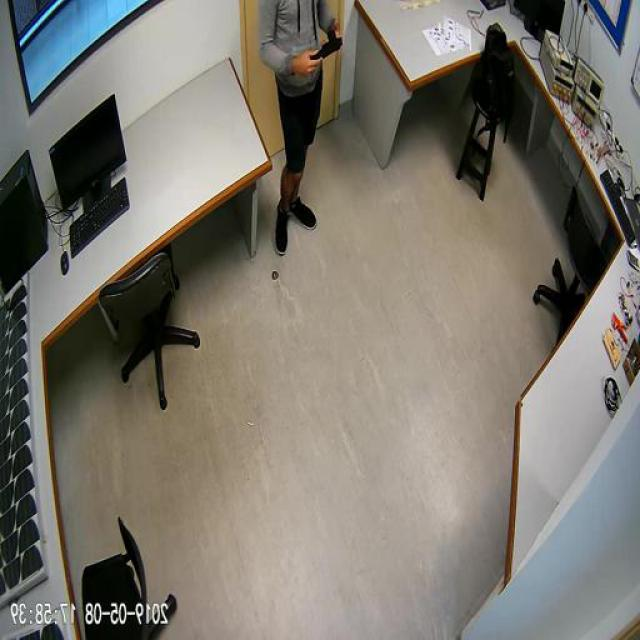Gun: (310, 25, 345, 60)
